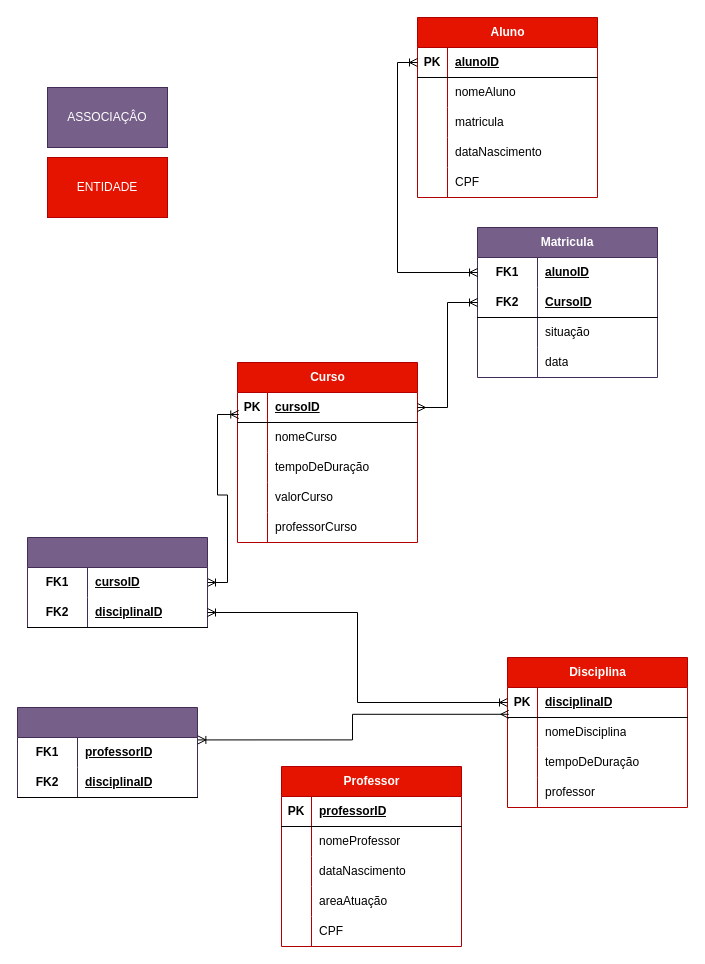
Image size: 705x964. Some labels were removed from this diagram. Here are the shapes that lost their labels. From the top down, the box of each, then its label:
(26, 536, 208, 628): Curso_Diciplina
(16, 706, 198, 798): Professor_Diciplina
